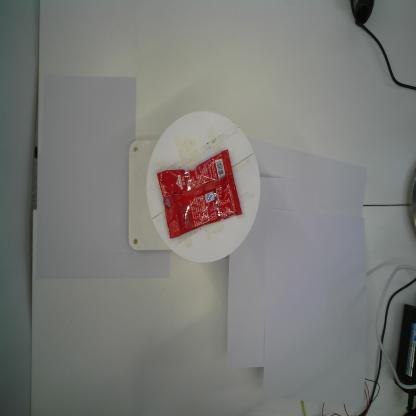Instant Drink: (157, 148, 242, 239)
